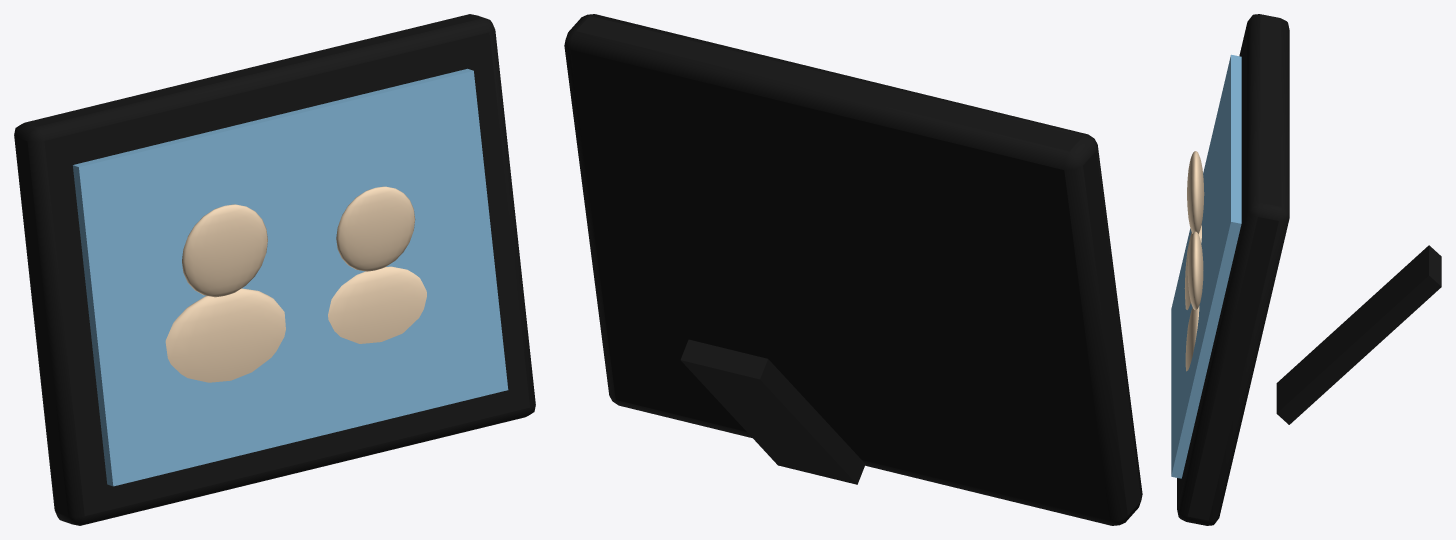
Rendered from photo_frame.fbx.
The picture shows the model from 3 angles, left to right: view 1: azimuth 30°, elevation 25°; view 2: azimuth 150°, elevation 25°; view 3: azimuth 270°, elevation 25°; orthographic projection. The views are drawn at different scales.
Parts seen in each view (by area): view 1: Photo, Frame, Silhouettes; view 2: Frame; view 3: Frame, Photo, Silhouettes.
Part boxes in pixels (x1,y1,x2,y2): Photo: (72, 68, 508, 486); Frame: (14, 14, 535, 525); Silhouettes: (165, 186, 426, 382); Frame: (564, 14, 1142, 525); Frame: (1177, 14, 1441, 525); Photo: (1171, 54, 1241, 478); Silhouettes: (1184, 151, 1204, 371).
Size of the model in its own units: 0.13 by 0.0991 by 0.0753.
